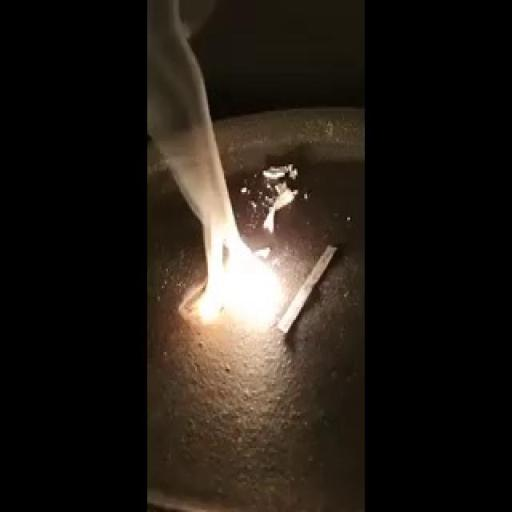smoke: (192, 226, 286, 330)
